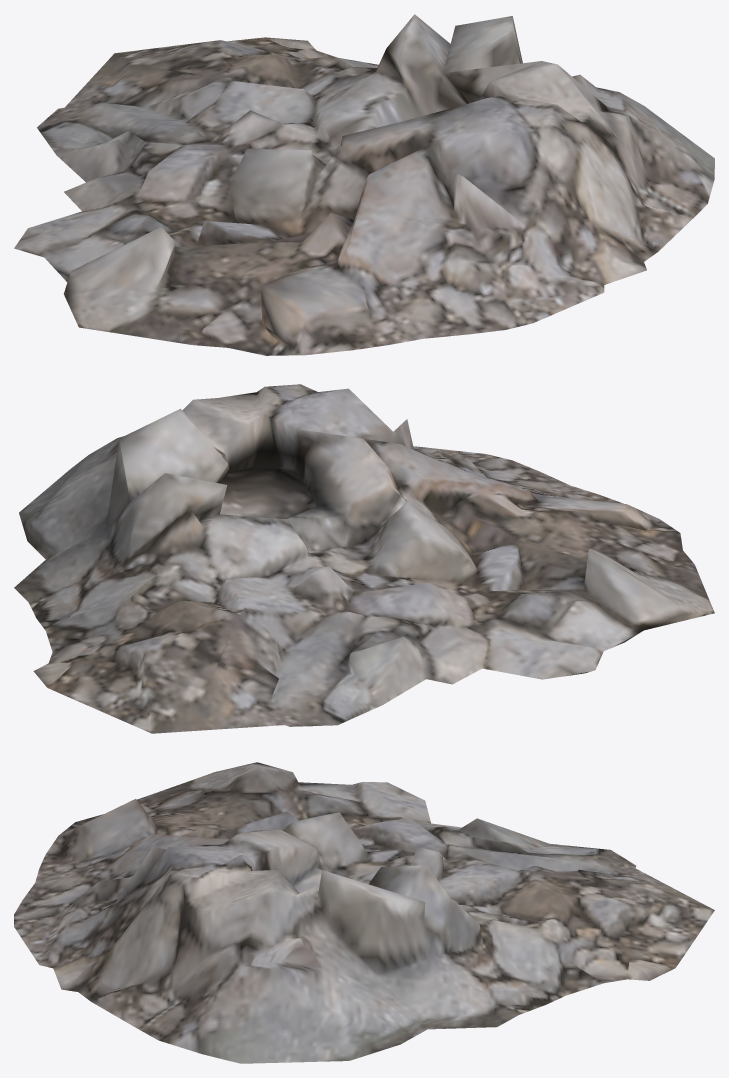
The model's file is SM_RatHole_01_01.fbx.
3 views of the same model, one above another, from view 1: azimuth 30°, elevation 25°; view 2: azimuth 150°, elevation 25°; view 3: azimuth 270°, elevation 25° (orthographic). The views are drawn at different scales.
Parts seen in each view (by area): view 1: sm_RatHole_01_01_LOD0; view 2: sm_RatHole_01_01_LOD0; view 3: sm_RatHole_01_01_LOD0.
Boxes of the visible parts, x1,y1,x2,y2 form: sm_RatHole_01_01_LOD0: [14, 14, 714, 355]; sm_RatHole_01_01_LOD0: [14, 384, 714, 733]; sm_RatHole_01_01_LOD0: [14, 762, 714, 1063].
Bounding box in the file's own units: 96.01 × 94.52 × 18.55.
